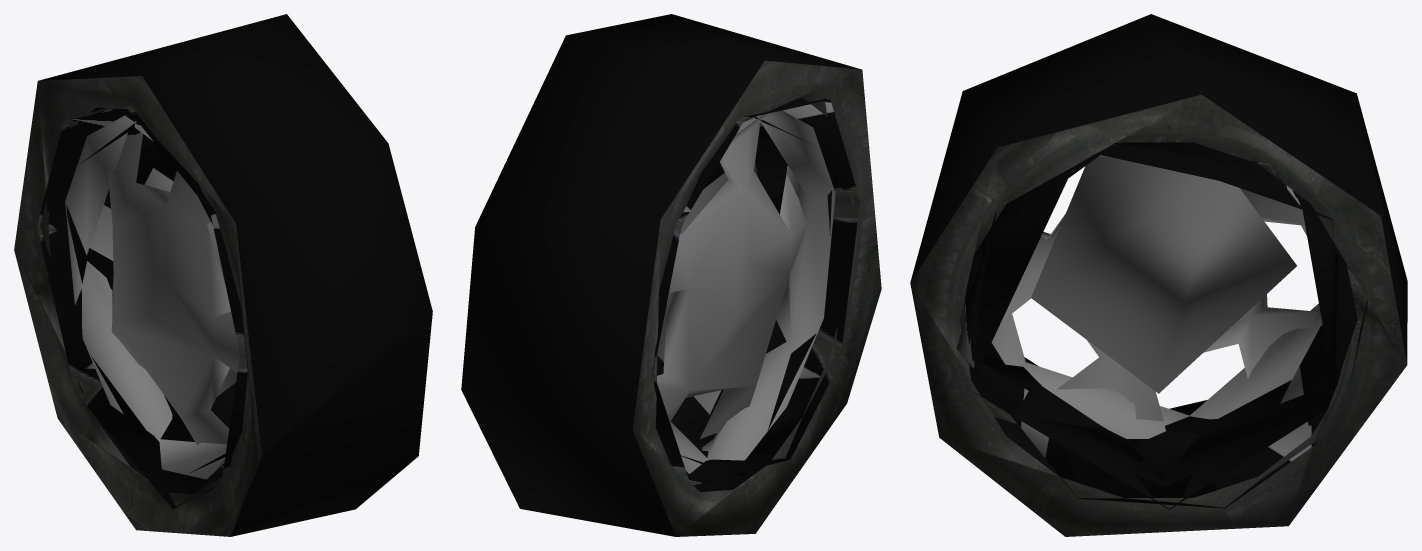
The model's file is M3_wheel_d2.obj.
3 renders of one model, left to right at view 1: azimuth 30°, elevation 25°; view 2: azimuth 150°, elevation 25°; view 3: azimuth 270°, elevation 25°, orthographic. The views are drawn at different scales.
Visible parts, largest first — view 1: M3_wheel; view 2: M3_wheel; view 3: M3_wheel.
Part boxes in pixels (x1,y1,x2,y2): M3_wheel: (14, 14, 432, 536); M3_wheel: (461, 14, 881, 536); M3_wheel: (910, 14, 1407, 536).
Bounding box in the file's own units: 0.2346 × 0.6002 × 0.5896.
1 material, 1 textured.
